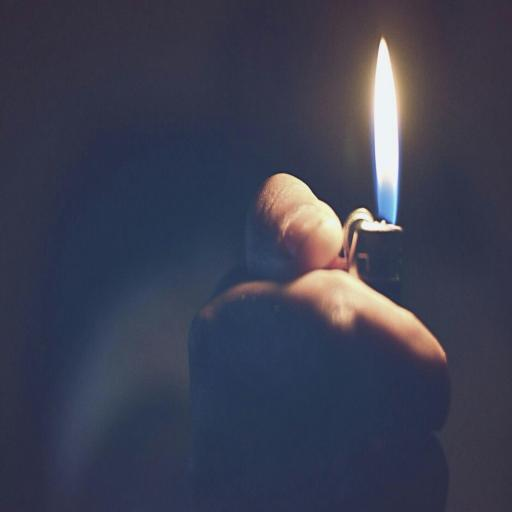fire: (362, 40, 411, 207)
lighter: (324, 26, 462, 297)
